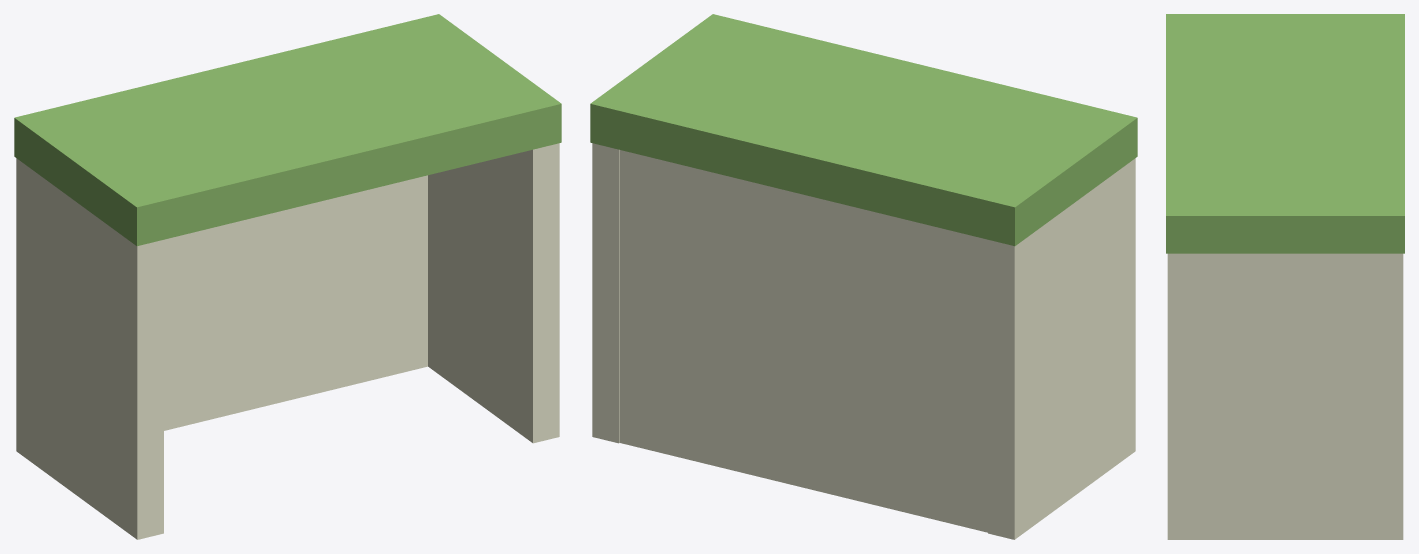
The model's file is desk3_lightgreen.glb.
3 views of the same model, side by side, from view 1: azimuth 30°, elevation 25°; view 2: azimuth 150°, elevation 25°; view 3: azimuth 270°, elevation 25° (orthographic). The views are drawn at different scales.
Visible parts, largest first — view 1: Box002; view 2: Box002; view 3: Box002.
Boxes of the visible parts, <box> form: Box002: <box>14,14,561,539</box>; Box002: <box>590,14,1137,539</box>; Box002: <box>1166,14,1404,539</box>.
Size of the model in its own units: 0.16 by 0.12 by 0.08.
1 material, 1 textured.
